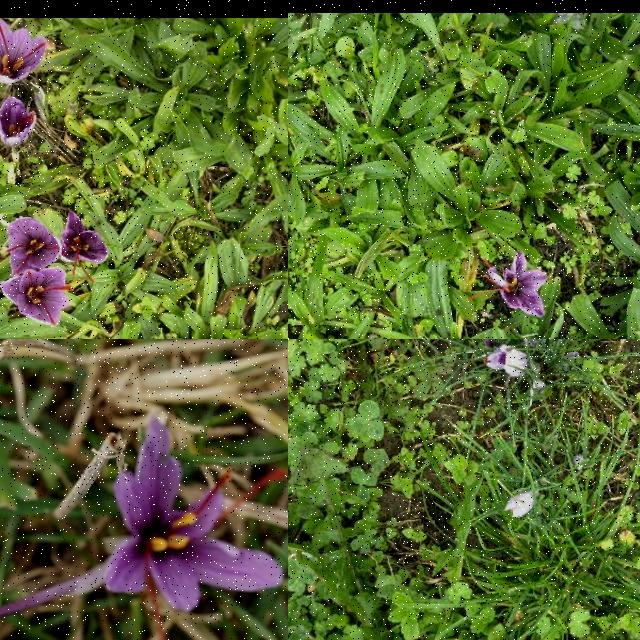flower: (104, 416, 287, 640), (0, 268, 74, 326), (488, 252, 548, 318), (60, 213, 110, 283), (5, 216, 60, 276), (0, 18, 46, 85), (0, 97, 37, 145), (484, 344, 530, 378), (504, 491, 538, 517), (518, 339, 547, 346)
